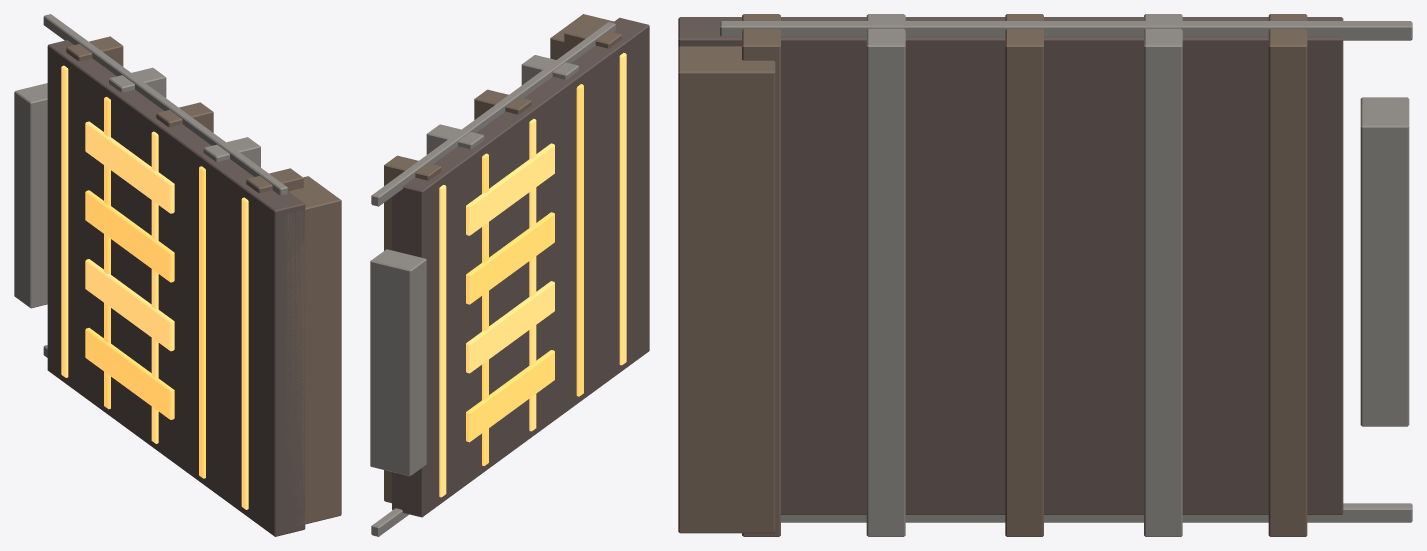
Rendered from facade_band_r.glb.
The picture shows the model from 3 angles, left to right: view 1: azimuth 30°, elevation 25°; view 2: azimuth 150°, elevation 25°; view 3: azimuth 270°, elevation 25°; orthographic projection. The views are drawn at different scales.
Visible parts, largest first — view 1: FacadeBand_R; view 2: FacadeBand_R; view 3: FacadeBand_R.
Part boxes in pixels (x1,y1,x2,y2): FacadeBand_R: [14, 14, 341, 536]; FacadeBand_R: [370, 14, 649, 536]; FacadeBand_R: [678, 14, 1412, 536].
Size of the model in its own units: 0.95 by 3.96 by 5.3.
